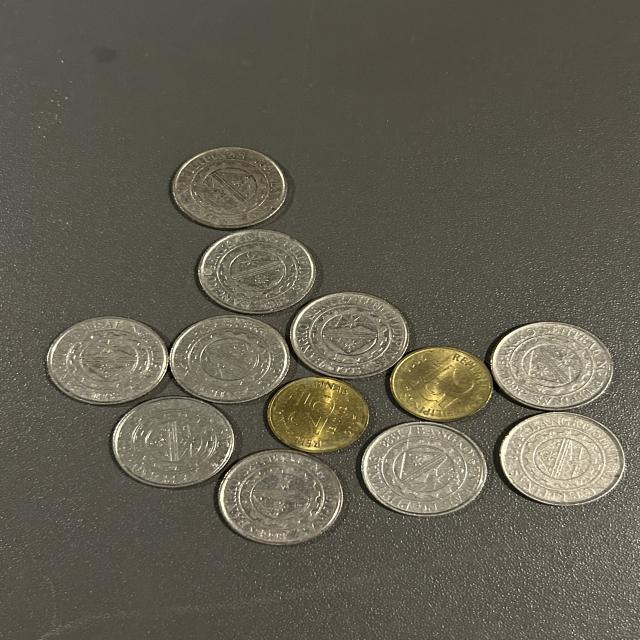1_Old_Back: (519, 422, 622, 500), (55, 321, 165, 394), (188, 155, 286, 235), (207, 236, 322, 302), (174, 320, 282, 390), (125, 405, 216, 483), (506, 325, 595, 401), (233, 465, 326, 535), (294, 306, 402, 366), (378, 430, 466, 503)
25Cent_Old_Front: (273, 389, 375, 448), (402, 356, 491, 422)
